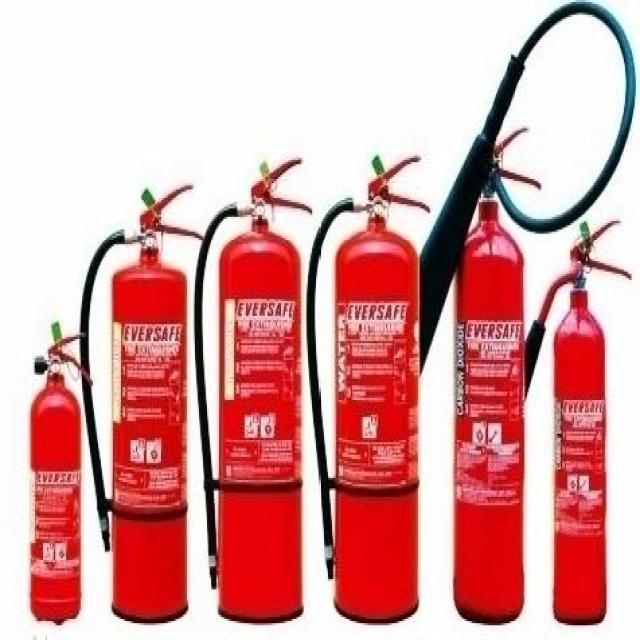fire_extinguisher: (375, 0, 636, 627), (301, 148, 432, 626), (189, 150, 315, 626), (74, 177, 206, 625), (502, 214, 633, 630), (24, 317, 96, 626)
